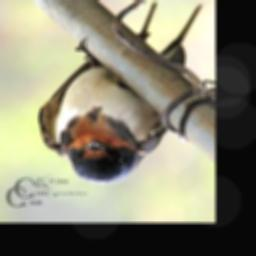Swallow: (38, 4, 203, 184)
